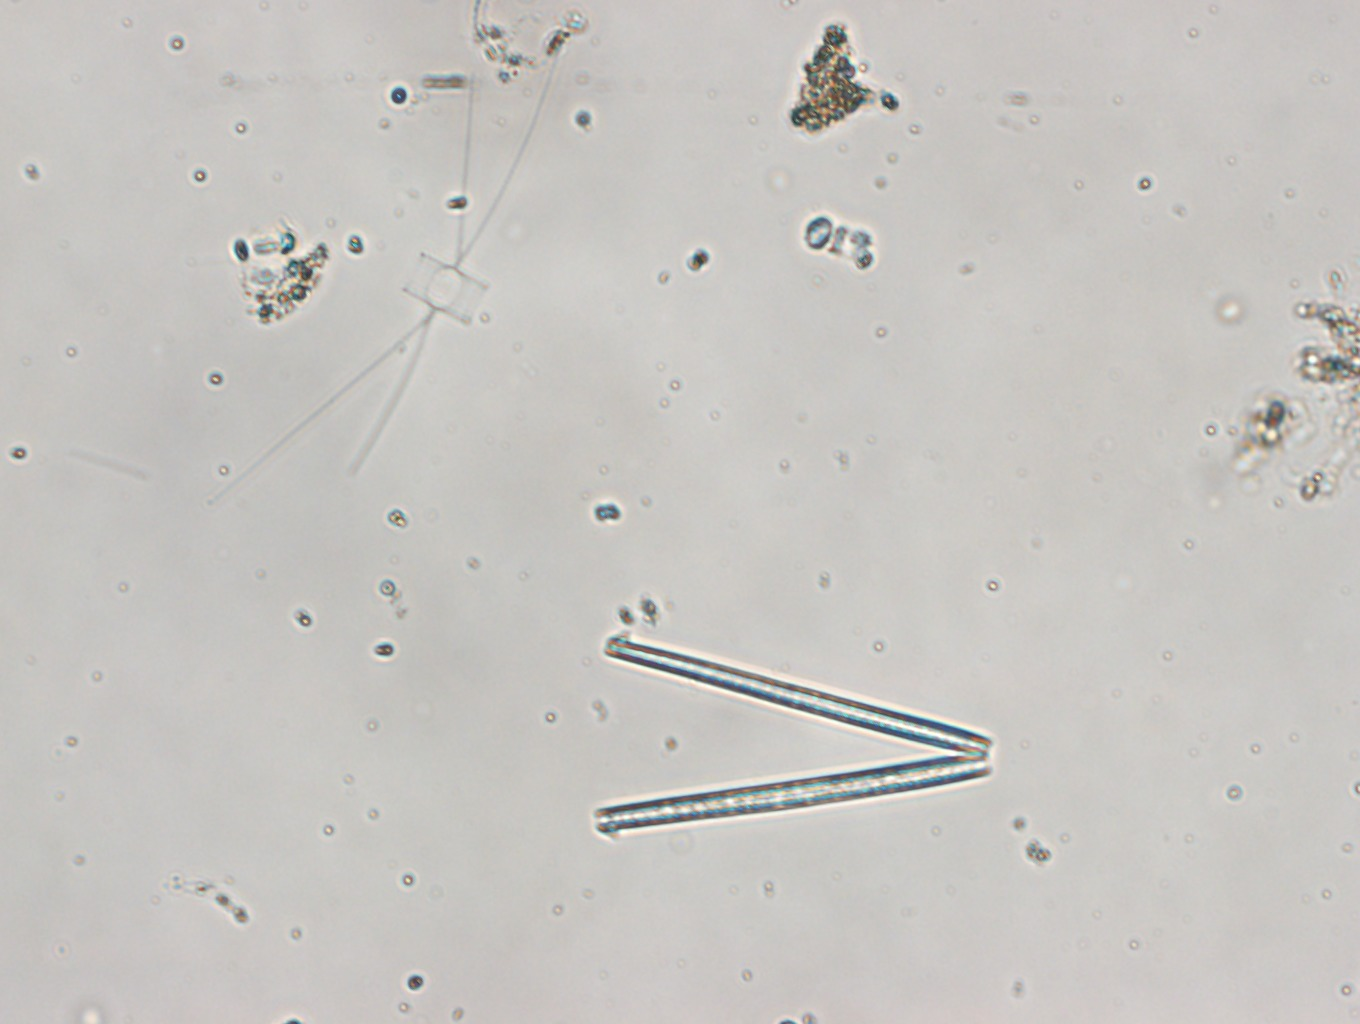chaetoceros: (239, 23, 566, 490)
thalassionema frauenfeldii: (590, 618, 1013, 852)
